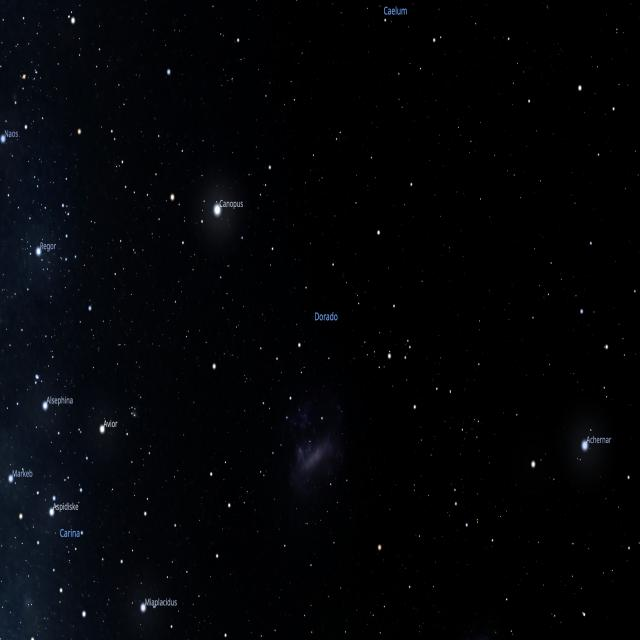Dorado: (272, 177, 415, 403)
